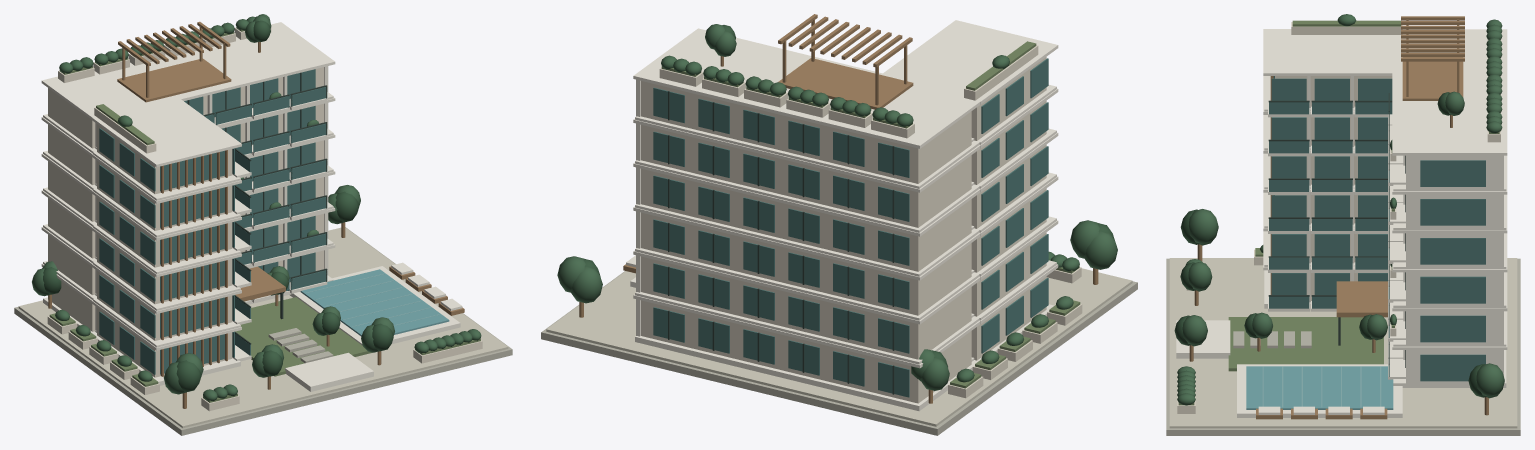
The model's file is courtyard.glb.
The picture shows the model from 3 angles, left to right: view 1: azimuth 30°, elevation 25°; view 2: azimuth 150°, elevation 25°; view 3: azimuth 270°, elevation 25°; orthographic projection. The views are drawn at different scales.
Parts seen in each view (by area): view 1: floor_5, landscape, floor_4, floor_2, floor_3, floor_1, floor_0, wing_slab (×6), wing_front_window (×5), swimming_pool, site_base, courtyard_garden (+5 smaller); view 2: floor_5, landscape, floor_2, floor_3, floor_4, floor_1, floor_0, rear_slab (×6), site_base, rooftop_deck, wing_slab (×2); view 3: floor_5, landscape, floor_4, floor_3, floor_2, floor_1, floor_0, swimming_pool, courtyard_garden, site_base, rooftop_deck, entry_canopy (+3 smaller).
Boxes of the visible parts, <box> form: floor_5: <box>41,14,335,194</box>; landscape: <box>18,185,508,428</box>; floor_4: <box>41,97,335,230</box>; floor_2: <box>41,171,335,304</box>; floor_3: <box>41,134,335,267</box>; floor_1: <box>41,207,335,340</box>; floor_0: <box>41,244,335,377</box>; wing_slab (×6): <box>93,151,240,385</box>; wing_front_window (×5): <box>160,150,224,337</box>; swimming_pool: <box>300,269,449,336</box>; site_base: <box>14,227,512,435</box>; courtyard_garden: <box>235,297,372,376</box>; floor_5: <box>633,14,1058,183</box>; landscape: <box>546,220,1132,426</box>; floor_2: <box>633,176,1058,315</box>; floor_3: <box>633,132,1058,271</box>; floor_4: <box>633,88,1058,227</box>; floor_1: <box>633,220,1058,359</box>; floor_0: <box>633,264,1058,403</box>; rear_slab (×6): <box>635,116,982,411</box>; site_base: <box>541,271,1137,435</box>; rooftop_deck: <box>778,58,913,109</box>; wing_slab (×2): <box>974,172,1056,320</box>; floor_5: <box>1263,14,1507,190</box>; landscape: <box>1169,209,1517,428</box>; floor_4: <box>1263,76,1507,229</box>; floor_3: <box>1263,115,1507,268</box>; floor_2: <box>1263,153,1507,306</box>; floor_1: <box>1263,192,1507,345</box>; floor_0: <box>1263,231,1507,384</box>; swimming_pool: <box>1246,366,1393,409</box>; courtyard_garden: <box>1228,317,1383,371</box>; site_base: <box>1166,258,1520,435</box>; rooftop_deck: <box>1402,57,1463,100</box>; entry_canopy: <box>1336,281,1387,317</box>.
Bounding box in the file's own units: 12 × 9.42 × 10.5.
